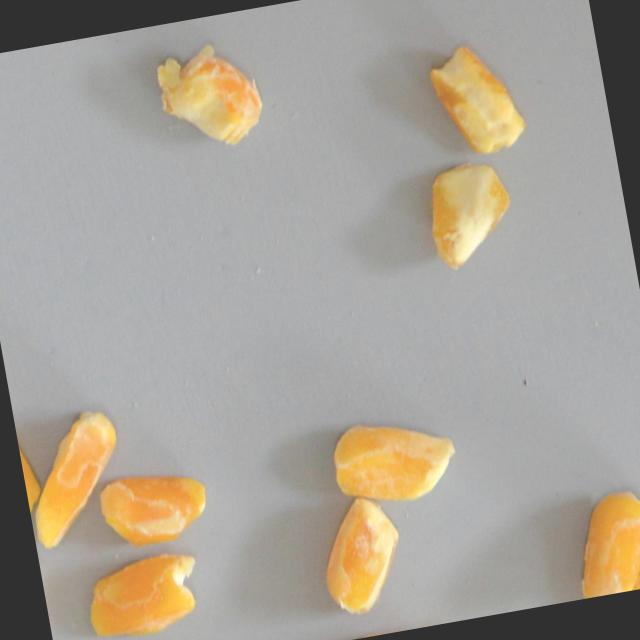pelicula: (15, 403, 134, 552), (147, 36, 271, 156), (324, 407, 463, 512), (308, 490, 411, 621), (421, 37, 528, 162), (413, 154, 521, 274), (77, 544, 208, 640), (94, 464, 213, 555), (562, 485, 640, 599), (9, 397, 46, 521), (569, 556, 640, 600)
